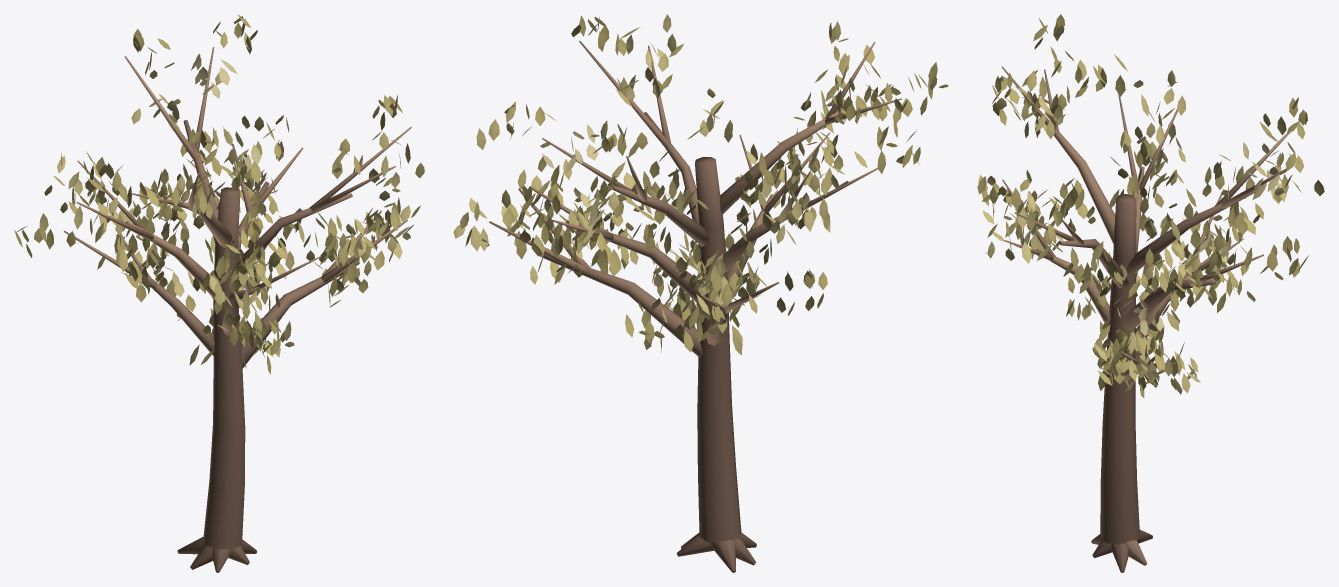
File: tree_3d_05_yellow.glb
3 renders of one model, left to right at view 1: azimuth 30°, elevation 25°; view 2: azimuth 150°, elevation 25°; view 3: azimuth 270°, elevation 25°, orthographic. The views are drawn at different scales.
Parts seen in each view (by area): view 1: tree_3d_05_yellow_foliage, tree_3d_05_yellow_wood; view 2: tree_3d_05_yellow_foliage, tree_3d_05_yellow_wood; view 3: tree_3d_05_yellow_foliage, tree_3d_05_yellow_wood.
Part boxes in pixels (x1,y1,x2,y2): tree_3d_05_yellow_foliage: (14, 14, 424, 374); tree_3d_05_yellow_wood: (64, 47, 411, 572); tree_3d_05_yellow_foliage: (453, 14, 948, 355); tree_3d_05_yellow_wood: (489, 41, 901, 572); tree_3d_05_yellow_foliage: (977, 14, 1324, 398); tree_3d_05_yellow_wood: (1002, 66, 1299, 572).
Bounding box in the file's own units: 13.4 × 15.3 × 10.4.
